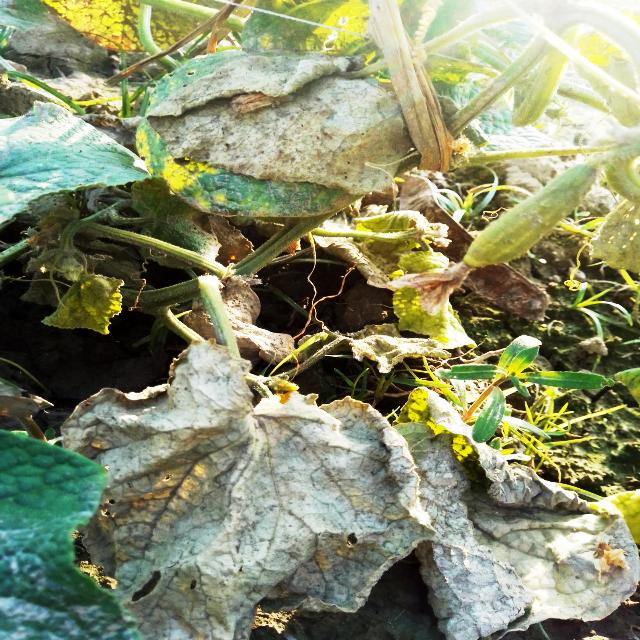Bacterial-Wilt: (59, 338, 441, 640), (390, 387, 640, 640), (144, 51, 413, 199)
